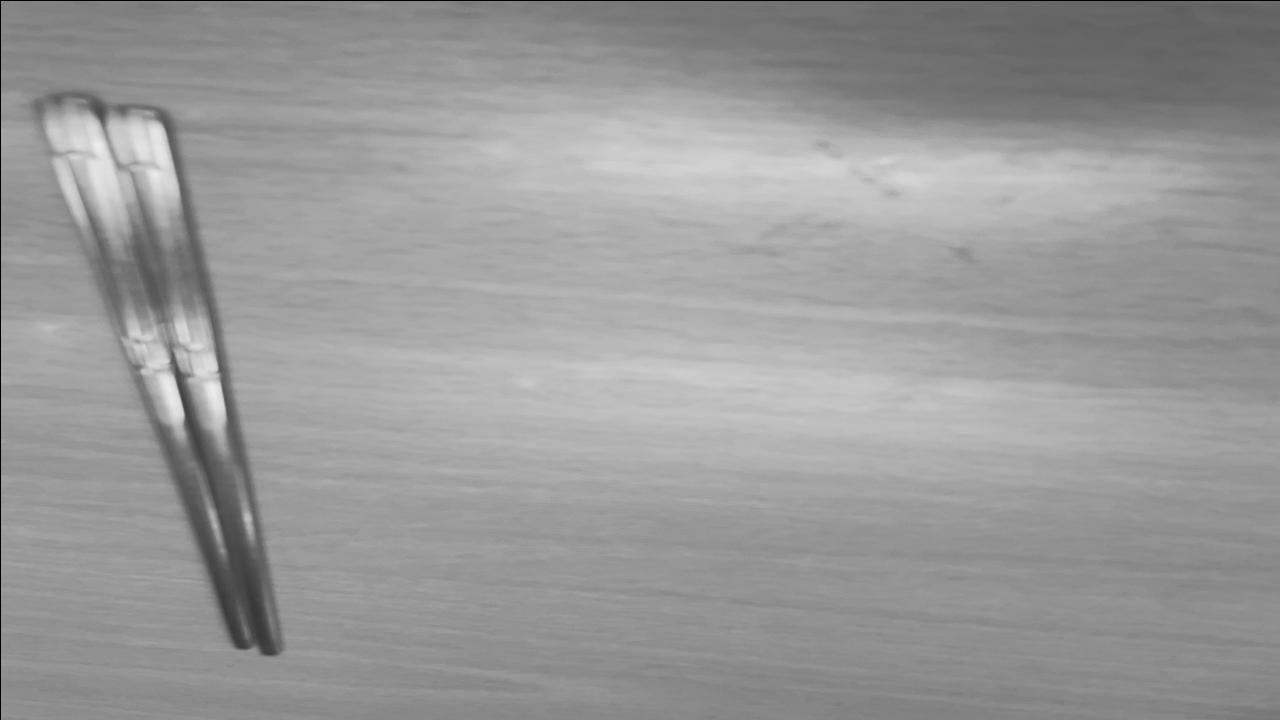chopstick: (40, 96, 279, 652)
